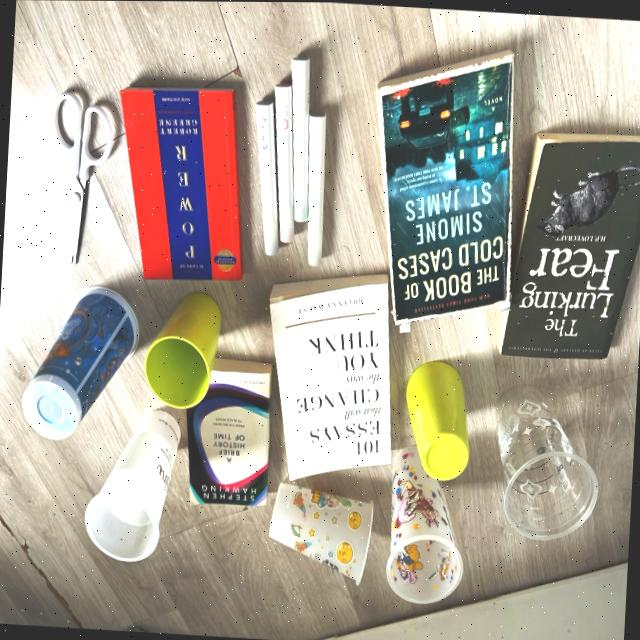Book: (378, 51, 513, 331), (498, 134, 640, 358), (270, 274, 390, 479), (121, 88, 243, 280), (187, 367, 271, 505)
HighLight Pen: (256, 100, 279, 256), (275, 84, 294, 242), (292, 57, 310, 222), (308, 115, 326, 266)
Plastic Cup: (497, 388, 598, 538), (85, 410, 181, 562), (387, 447, 462, 603), (270, 483, 374, 584)
Scissors: (53, 91, 114, 263)
WaterGlass: (145, 294, 222, 408), (406, 361, 469, 480)
